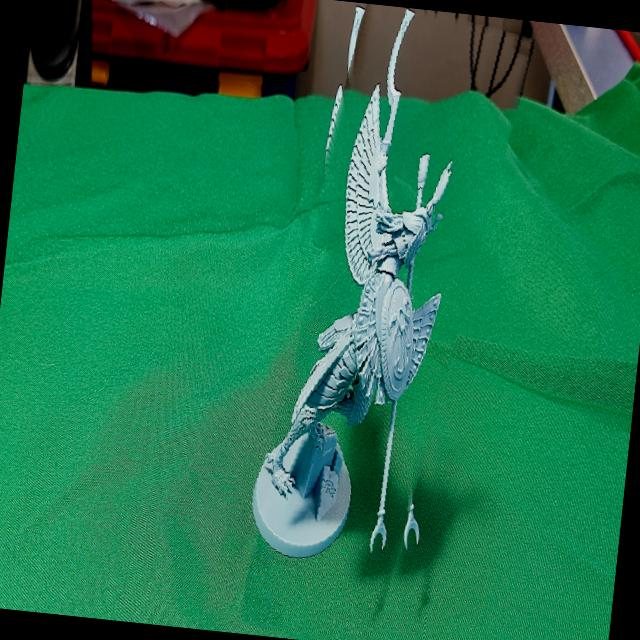isis: (224, 0, 512, 640)
